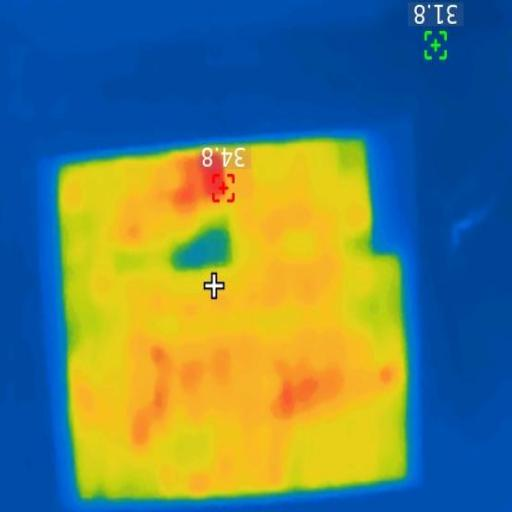hotspot: (172, 153, 234, 206), (272, 371, 314, 412), (147, 339, 171, 410)
